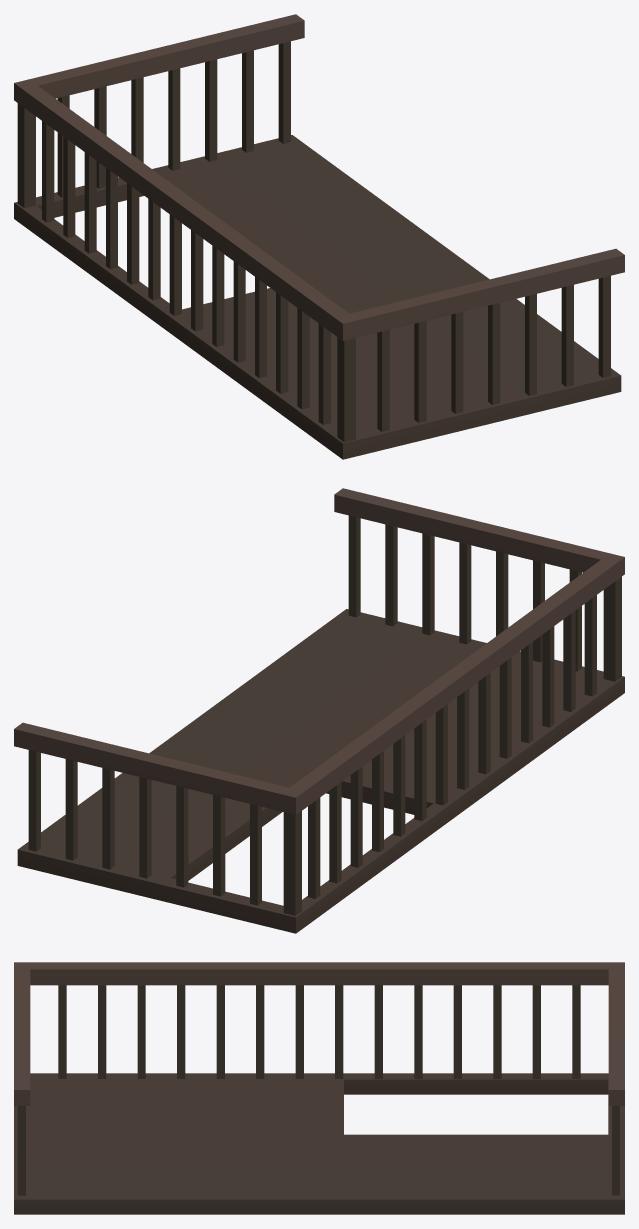
Rendered from FireEscape_A_1.fbx.
3 views of the same model, one above another, from view 1: azimuth 30°, elevation 25°; view 2: azimuth 150°, elevation 25°; view 3: azimuth 270°, elevation 25° (orthographic). The views are drawn at different scales.
Parts seen in each view (by area): view 1: FireEscape_A_1; view 2: FireEscape_A_1; view 3: FireEscape_A_1.
Part boxes in pixels (bbox=[...]): FireEscape_A_1: bbox=[14, 14, 624, 459]; FireEscape_A_1: bbox=[14, 488, 624, 933]; FireEscape_A_1: bbox=[14, 962, 624, 1214].
Bounding box in the file's own units: 191 × 87.75 × 385.
